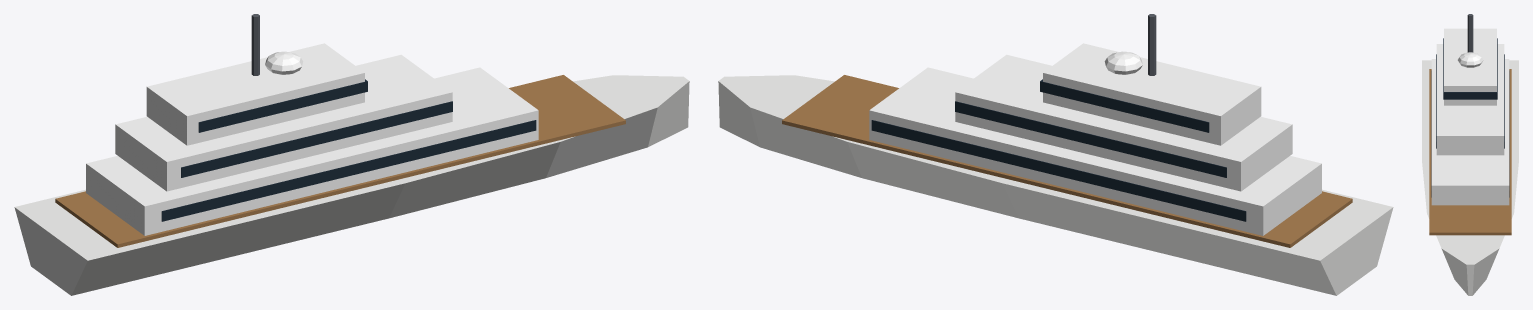
Rendered from yacht-large.glb.
3 views of the same model, side by side, from view 1: azimuth 30°, elevation 25°; view 2: azimuth 150°, elevation 25°; view 3: azimuth 270°, elevation 25° (orthographic). The views are drawn at different scales.
Parts seen in each view (by area): view 1: yacht-large; view 2: yacht-large; view 3: yacht-large.
Boxes of the visible parts, box(x1,y1,x2,y2) form: yacht-large: box(14, 14, 689, 295); yacht-large: box(718, 14, 1393, 295); yacht-large: box(1422, 14, 1518, 295).
Bounding box in the file's own units: 45 × 14.6 × 9.
